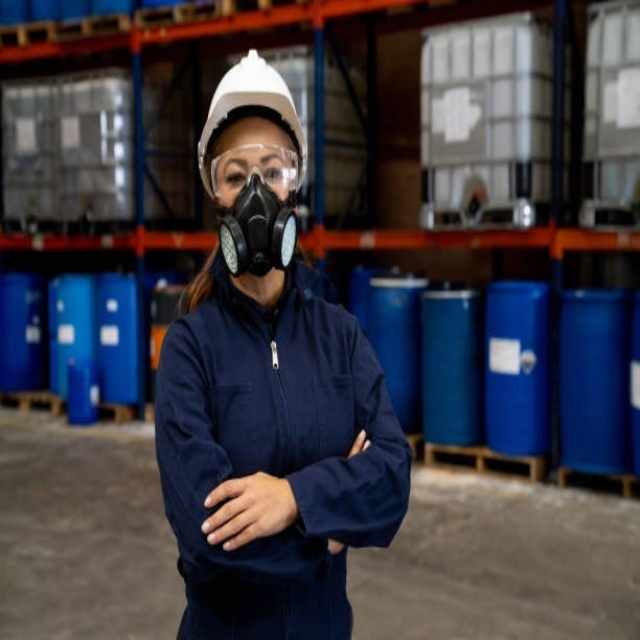Gafas: (208, 142, 302, 200)
Mascara: (217, 176, 299, 278)
Sin_guantes: (200, 465, 293, 552)
